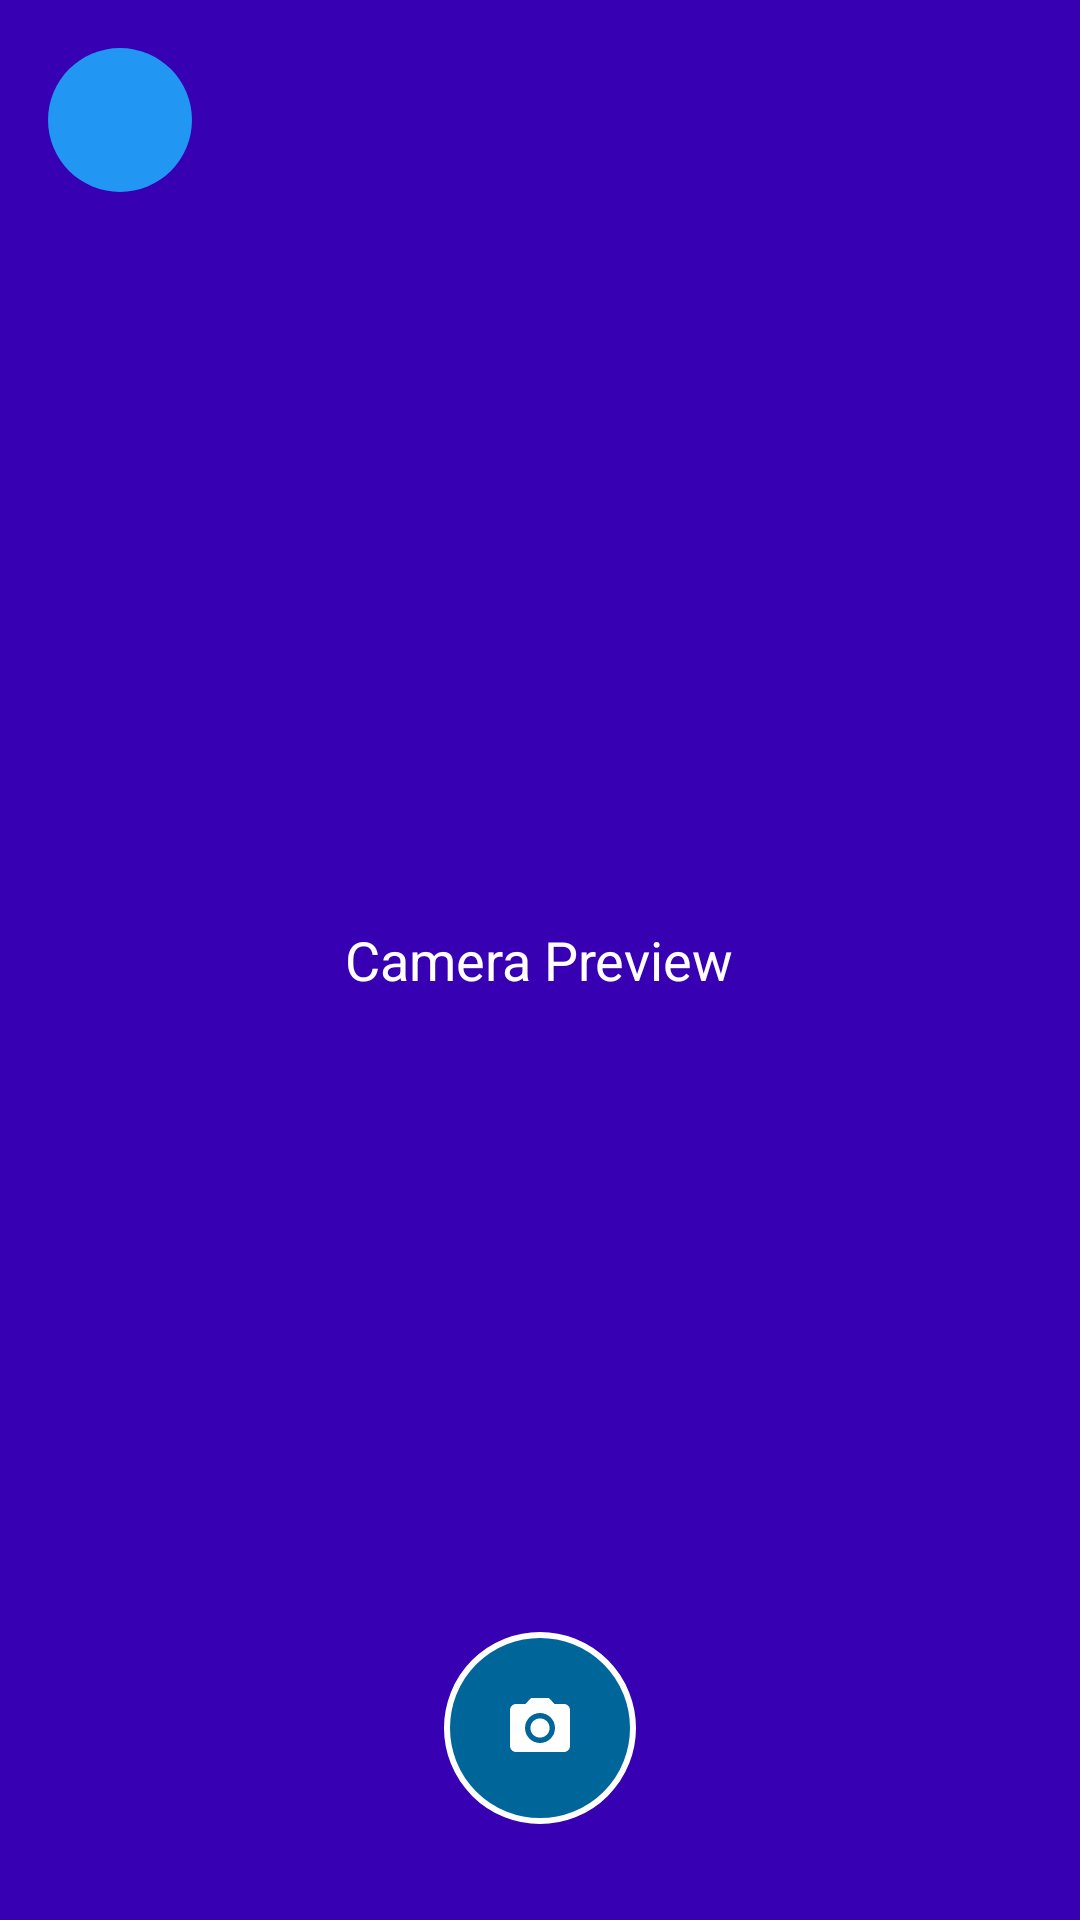

Named icons in this screenshot (1080 x 1920) and their bounding boxes, rect(x1, y1, x2, y2):
Take photo: rect(444, 1632, 636, 1824)
